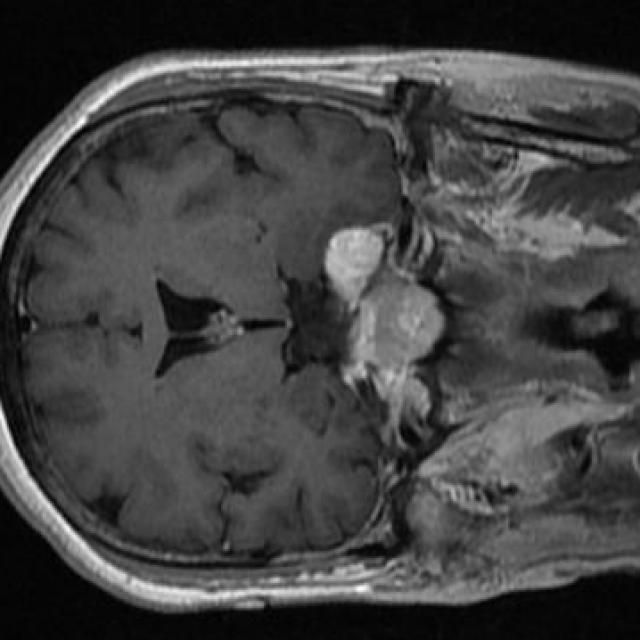meningioma: (323, 228, 383, 307)
